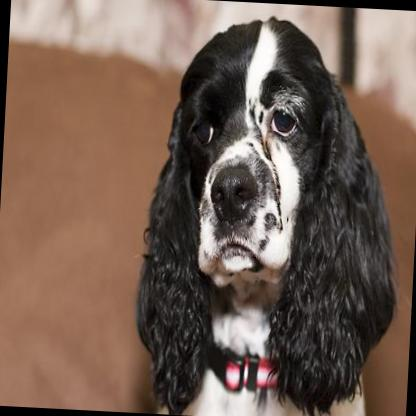cocker_spaniel: (128, 7, 409, 416)
